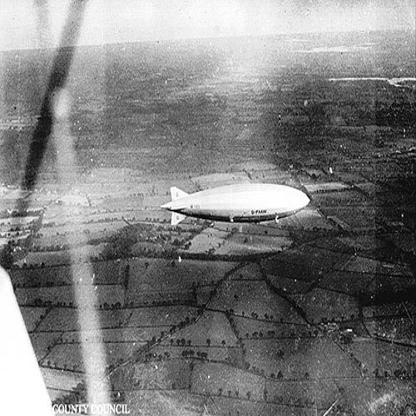Airship: (159, 180, 310, 236)
